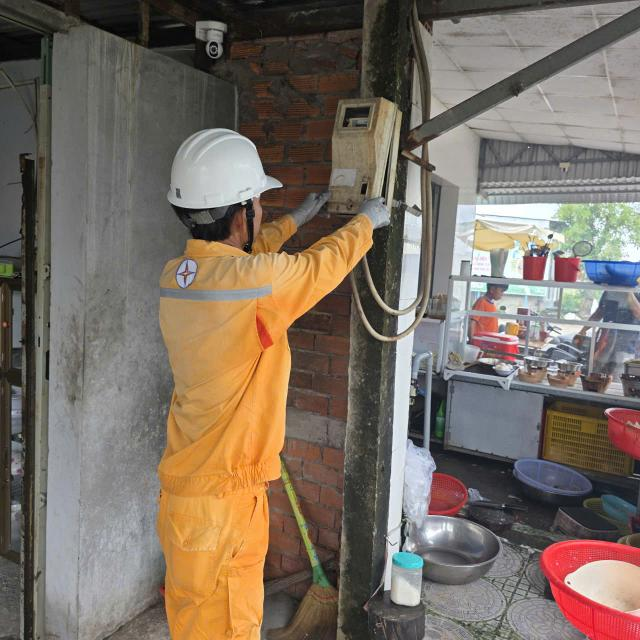gloves: (362, 188, 409, 232), (282, 188, 339, 224)
helmet: (157, 111, 297, 217)
